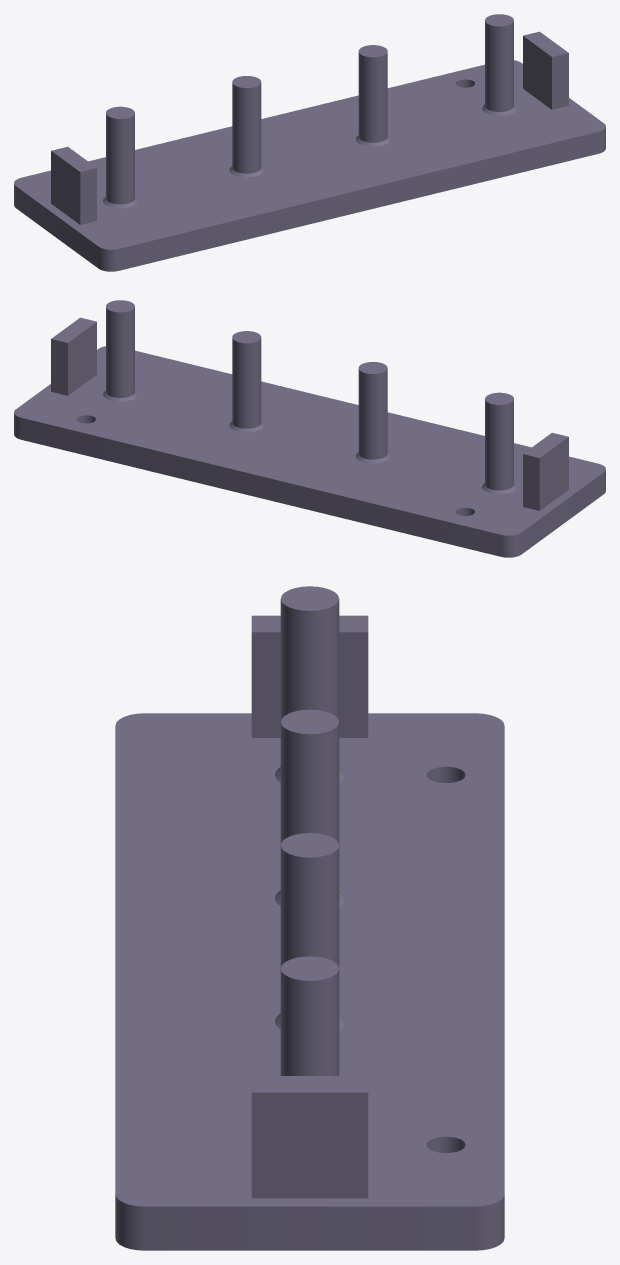
File: start_rack.glb
3 renders of one model, top to bottom at view 1: azimuth 30°, elevation 25°; view 2: azimuth 150°, elevation 25°; view 3: azimuth 270°, elevation 25°, orthographic. The views are drawn at different scales.
Visible parts, largest first — view 1: base; view 2: base; view 3: base.
Part boxes in pixels (x1=…): base: x1=14, y1=14, x2=605, y2=271; base: x1=14, y1=300, x2=605, y2=557; base: x1=115, y1=586, x2=504, y2=1250.
Bounding box in the file's own units: 0.12 × 0.025 × 0.04.
